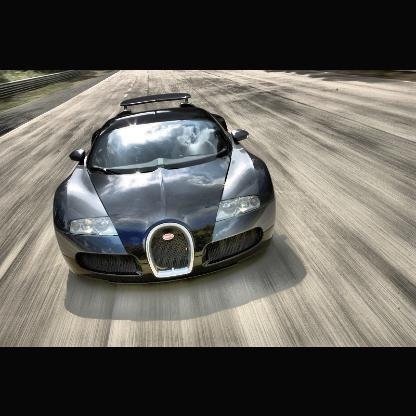Bugatti Veyron 16-4 Coupe 2009: (54, 91, 279, 293)
